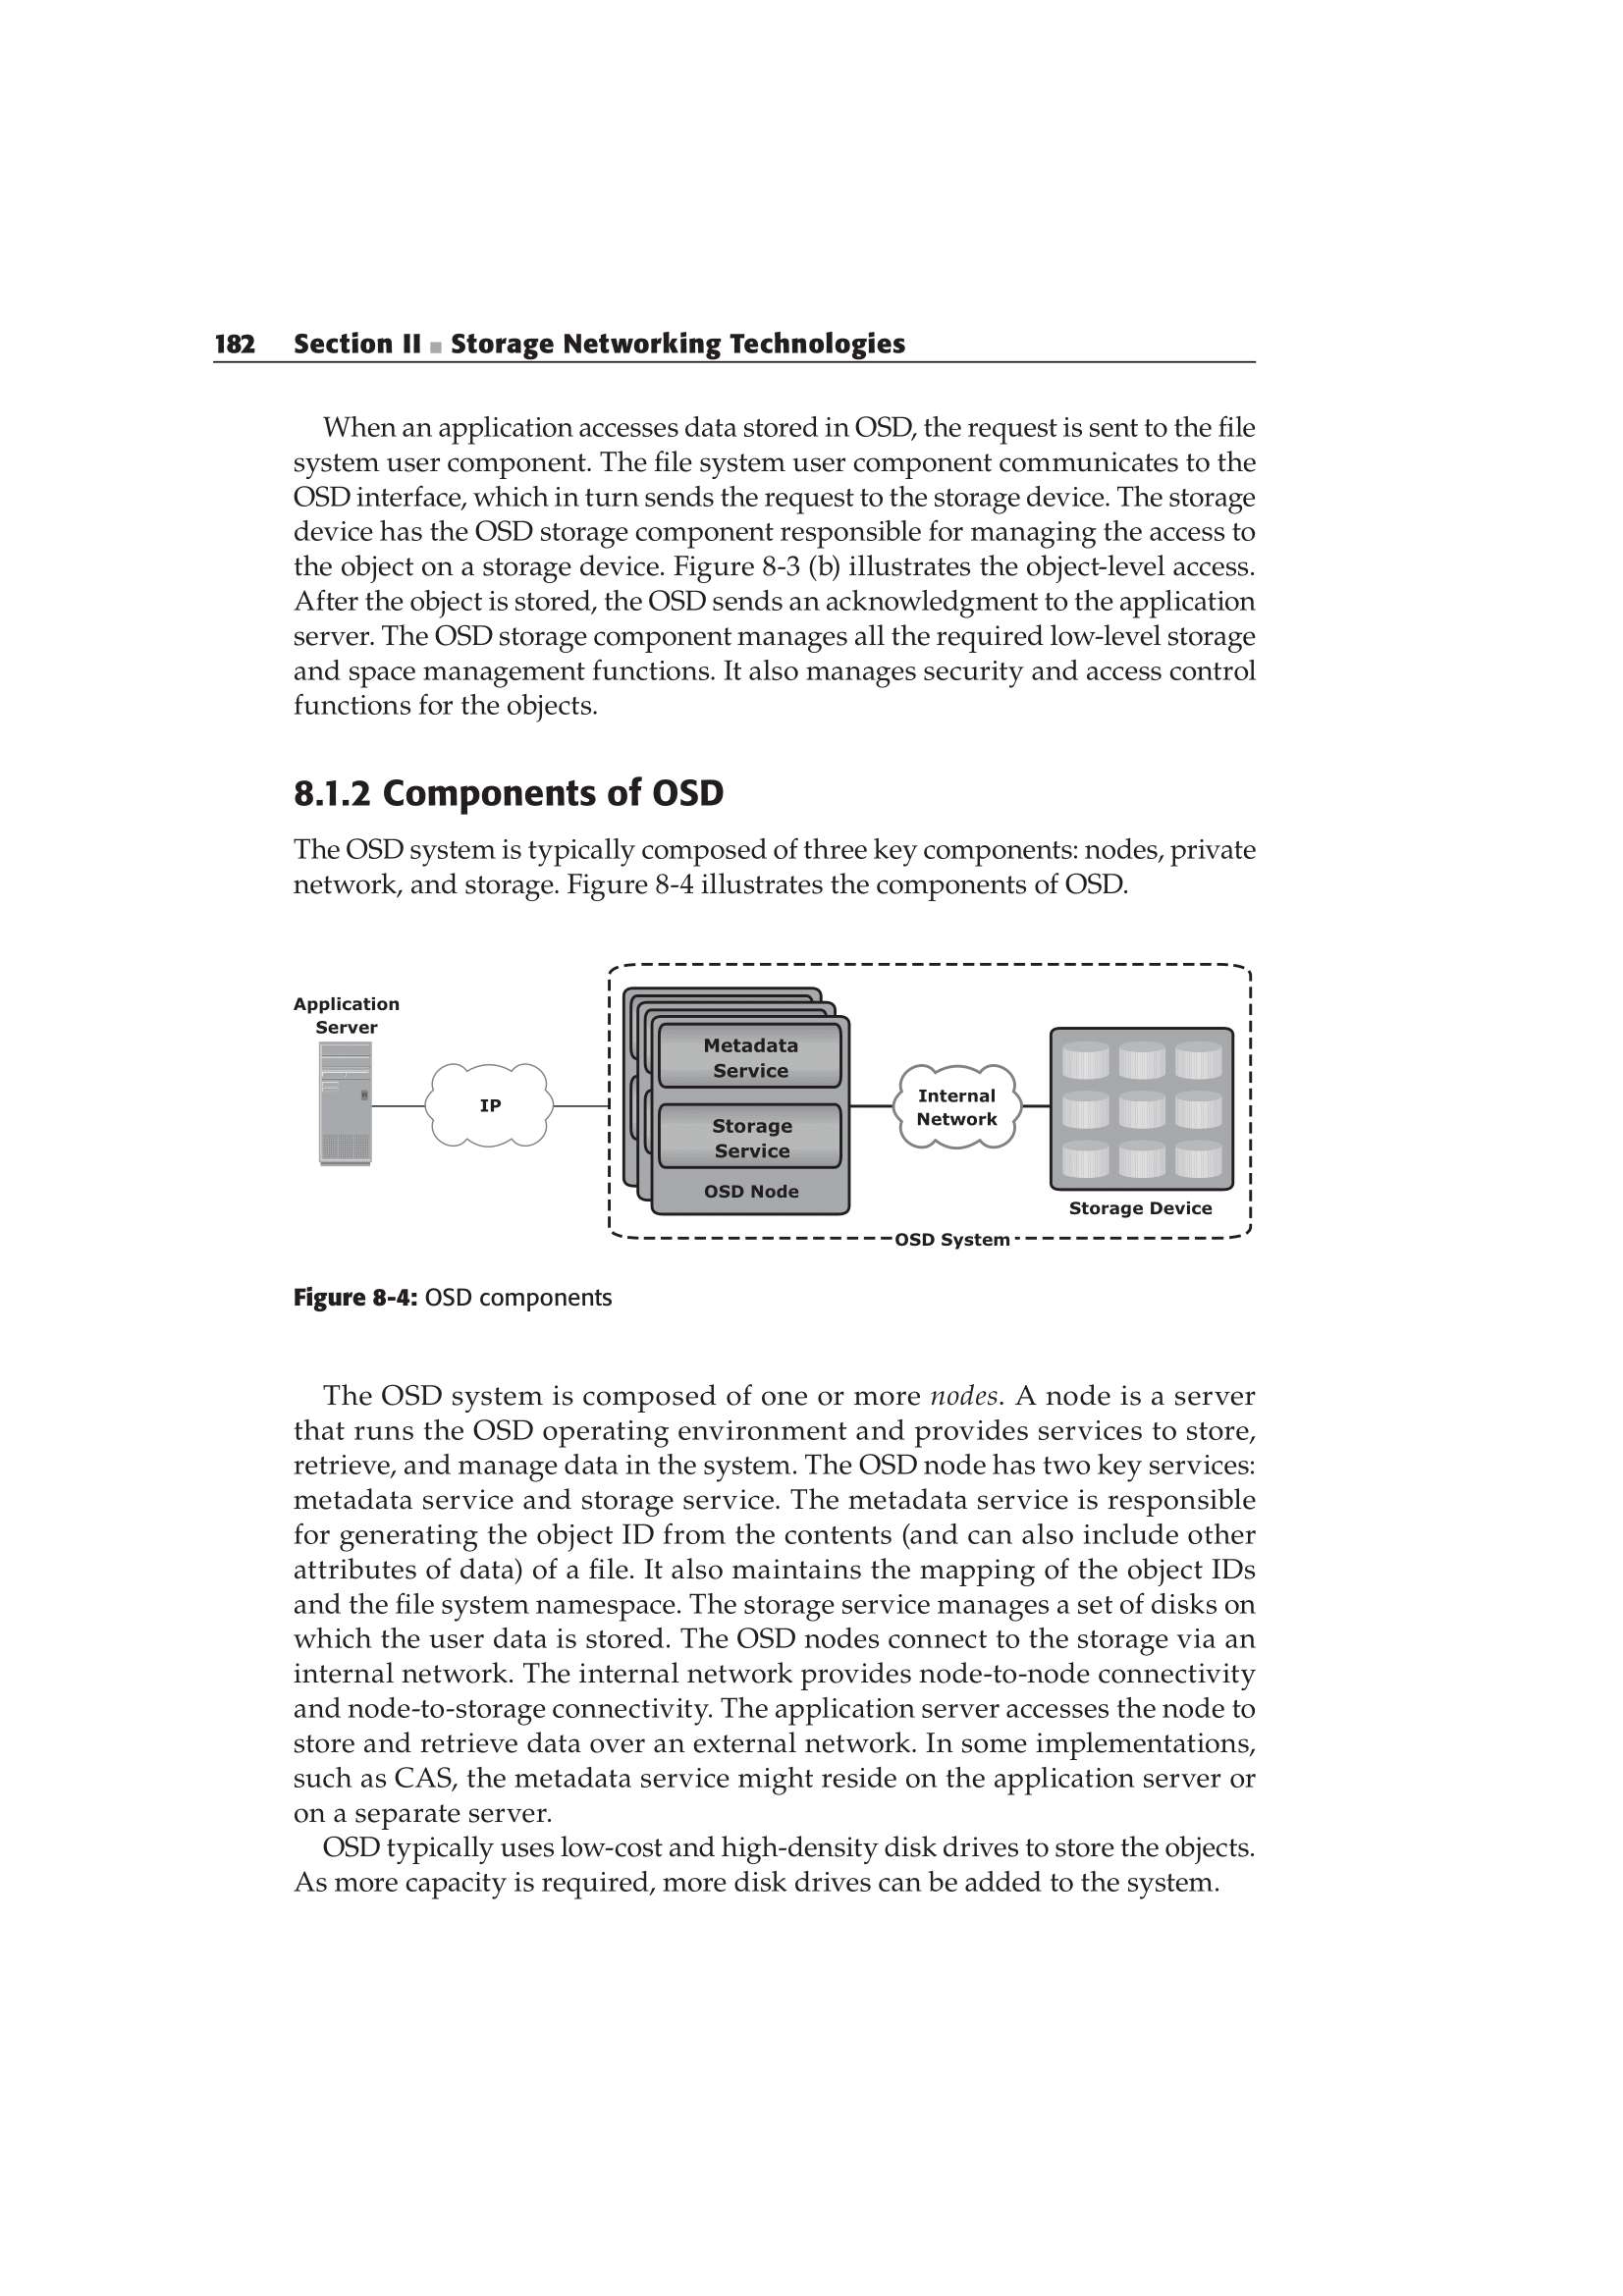Image: (76, 943, 1451, 1248)
Paragraph: (176, 1371, 1421, 1919), (105, 407, 1430, 734), (79, 256, 1089, 369), (172, 825, 1354, 909), (248, 755, 826, 816), (227, 1266, 713, 1324)
